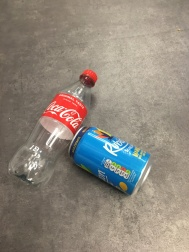bottle_red: (11, 55, 99, 190)
can_blue: (62, 121, 156, 203)
